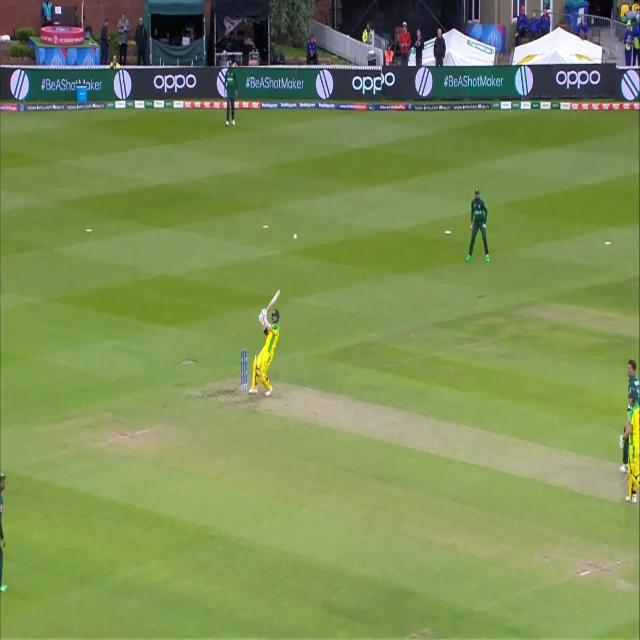ball: (290, 230, 302, 245)
